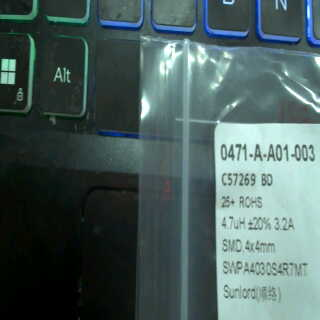4.7uH: (219, 216, 247, 233)
